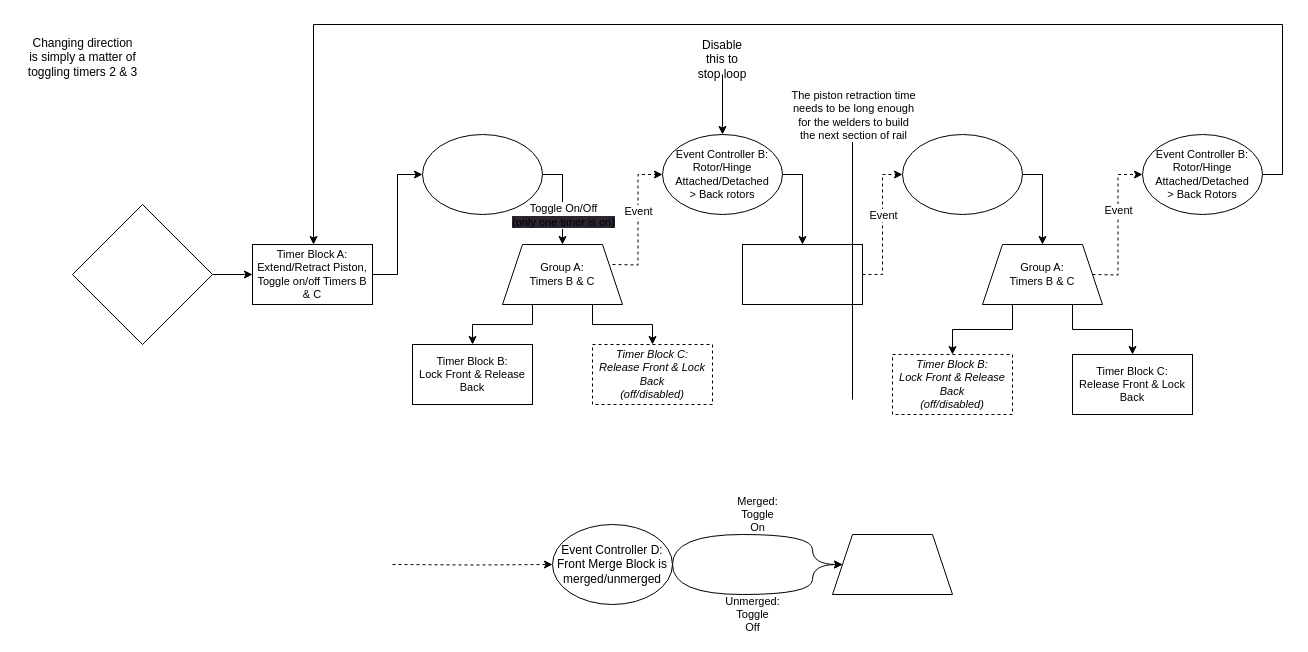
Some shapes in this 1308 by 652 pixel diagram are drawn without their labels. Here are the shapes that lost their labels. From the top down, the centre of each, then its label:
At point 482,174: "Event Controller A: Piston Position % = 100".
At point 962,174: "Event Controller C: Piston Position % = 0".
At point 142,274: "Start: Back locked, Front unlocked, Piston retracted".
At point 802,274: "Timer Block B: Extend/Retract Piston, Toggle on/off Timers B & C".
At point 892,564: "Group B: Projector Welders".
